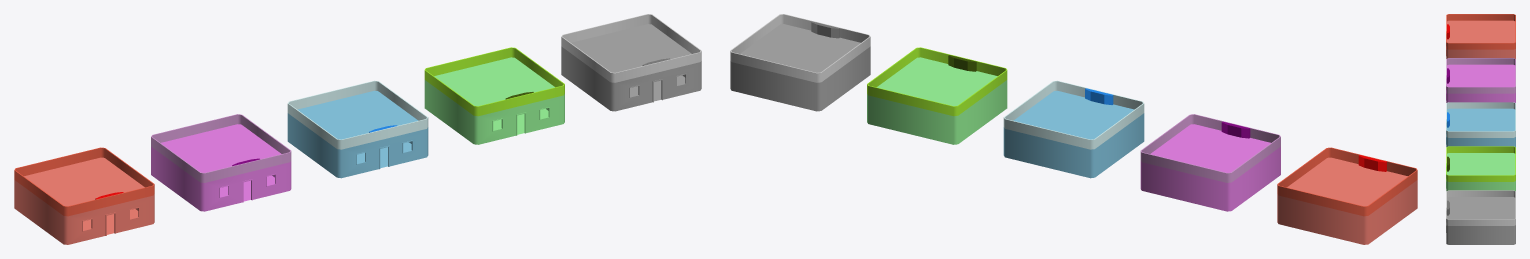
Rendered from Houses.fbx.
The picture shows the model from 3 angles, left to right: view 1: azimuth 30°, elevation 25°; view 2: azimuth 150°, elevation 25°; view 3: azimuth 270°, elevation 25°; orthographic projection. The views are drawn at different scales.
Visible parts, largest first — view 1: Group15, Group10, Group20, Group25, Group5, Group14, Group19, Group24, Group4, Group9, Group12, Group22 (+3 smaller); view 2: Group15, Group25, Group5, Group20, Group10, Group24, Group19, Group4, Group9, Group14, Group12, Group17 (+3 smaller); view 3: Group9, Group14, Group19, Group24, Group4, Group25, Group2, Group17, Group7, Group12, Group22, Group10 (+3 smaller).
Part boxes in pixels (left/top/right/bottom): Group15: left=287, top=113, right=428, bottom=178; Group10: left=151, top=146, right=291, bottom=211; Group20: left=424, top=80, right=564, bottom=144; Group25: left=561, top=46, right=701, bottom=111; Group5: left=14, top=180, right=154, bottom=244; Group14: left=297, top=90, right=418, bottom=139; Group19: left=434, top=57, right=554, bottom=106; Group24: left=571, top=24, right=691, bottom=72; Group4: left=24, top=157, right=144, bottom=206; Group9: left=161, top=124, right=281, bottom=172; Group12: left=287, top=80, right=428, bottom=149; Group22: left=561, top=14, right=701, bottom=82; Group15: left=1003, top=98, right=1144, bottom=178; Group25: left=730, top=32, right=870, bottom=111; Group5: left=1277, top=165, right=1417, bottom=244; Group20: left=867, top=65, right=1007, bottom=144; Group10: left=1140, top=132, right=1280, bottom=211; Group24: left=740, top=24, right=860, bottom=72; Group19: left=877, top=57, right=997, bottom=106; Group4: left=1287, top=157, right=1407, bottom=206; Group9: left=1150, top=124, right=1270, bottom=172; Group14: left=1013, top=90, right=1134, bottom=139; Group12: left=1003, top=80, right=1144, bottom=149; Group17: left=867, top=47, right=1007, bottom=116; Group9: left=1447, top=64, right=1515, bottom=87; Group14: left=1447, top=108, right=1515, bottom=131; Group19: left=1447, top=153, right=1515, bottom=175; Group24: left=1447, top=197, right=1515, bottom=219; Group4: left=1447, top=20, right=1515, bottom=42; Group25: left=1446, top=207, right=1515, bottom=244; Group2: left=1446, top=14, right=1515, bottom=49; Group17: left=1446, top=146, right=1515, bottom=181; Group7: left=1446, top=58, right=1515, bottom=93; Group12: left=1446, top=102, right=1515, bottom=137; Group22: left=1446, top=190, right=1515, bottom=225; Group10: left=1446, top=74, right=1515, bottom=102.
Bounding box in the file's own units: 7000 × 400 × 1005.
